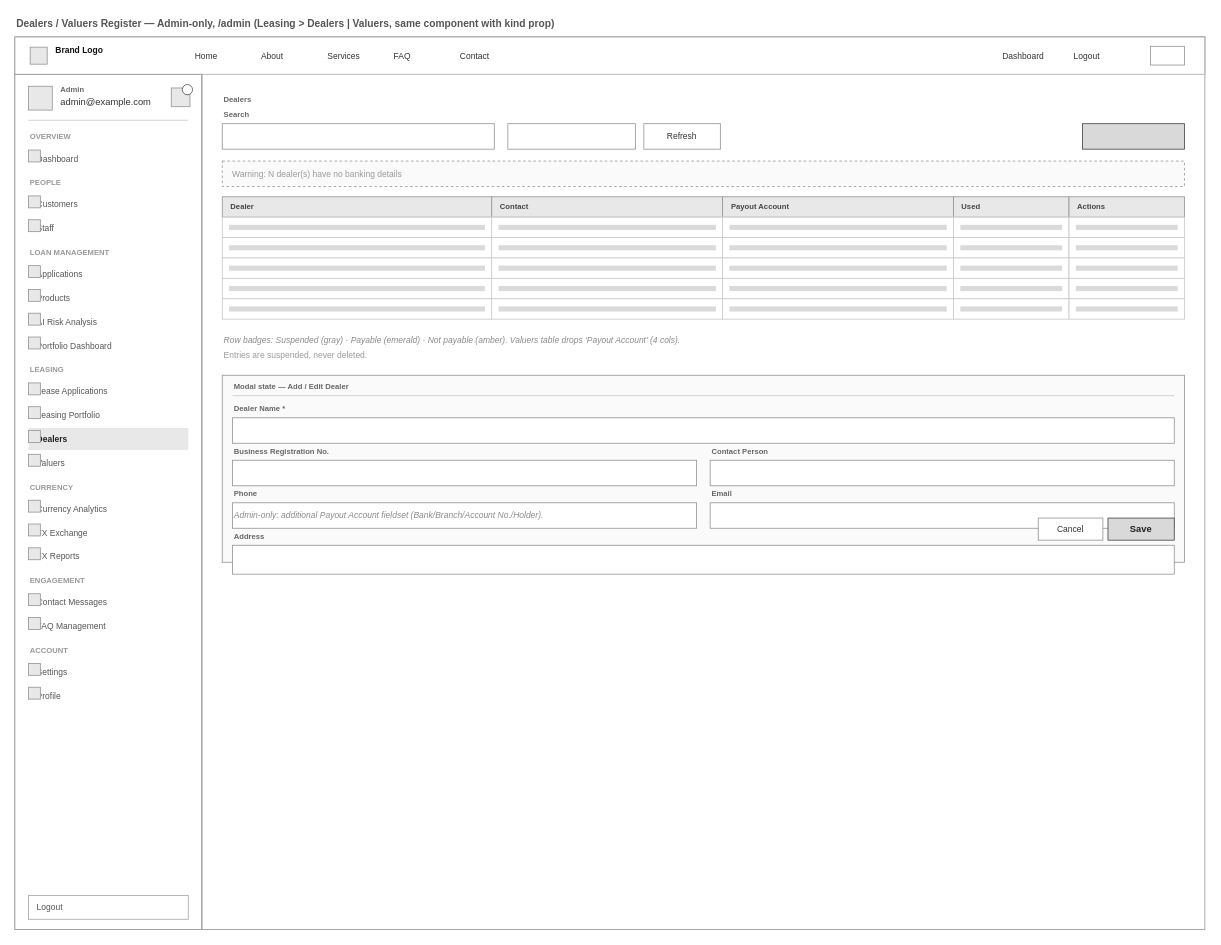
This 1221x945 diagram has some shape labels left out. The centre of each missing label's shape, as x and y in pixels:
"Add Dealer" goes at point (1133, 136).
"EN ▾" goes at point (1167, 55).
"Suspended (N)" goes at point (571, 136).
